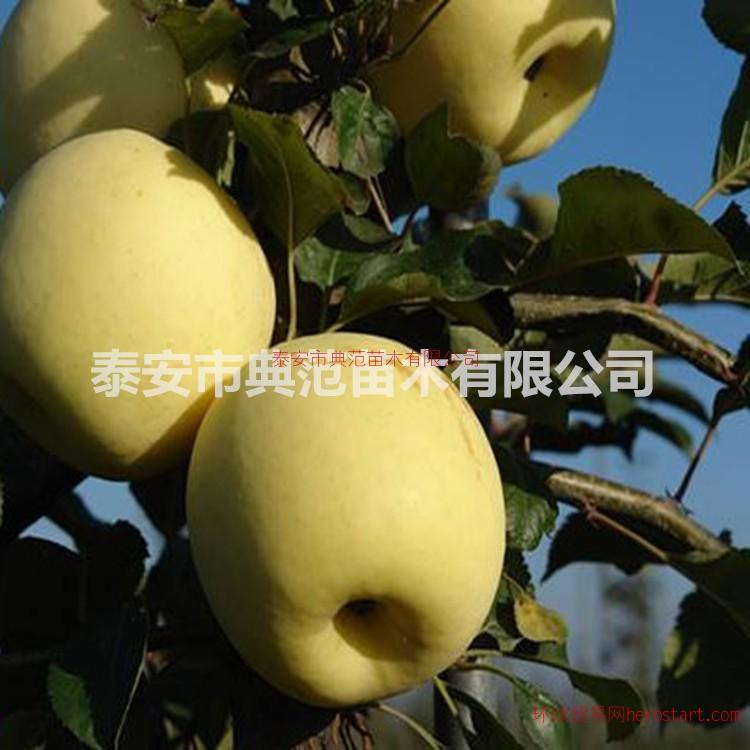apple: (179, 327, 508, 702), (1, 123, 278, 486), (362, 3, 619, 167)
